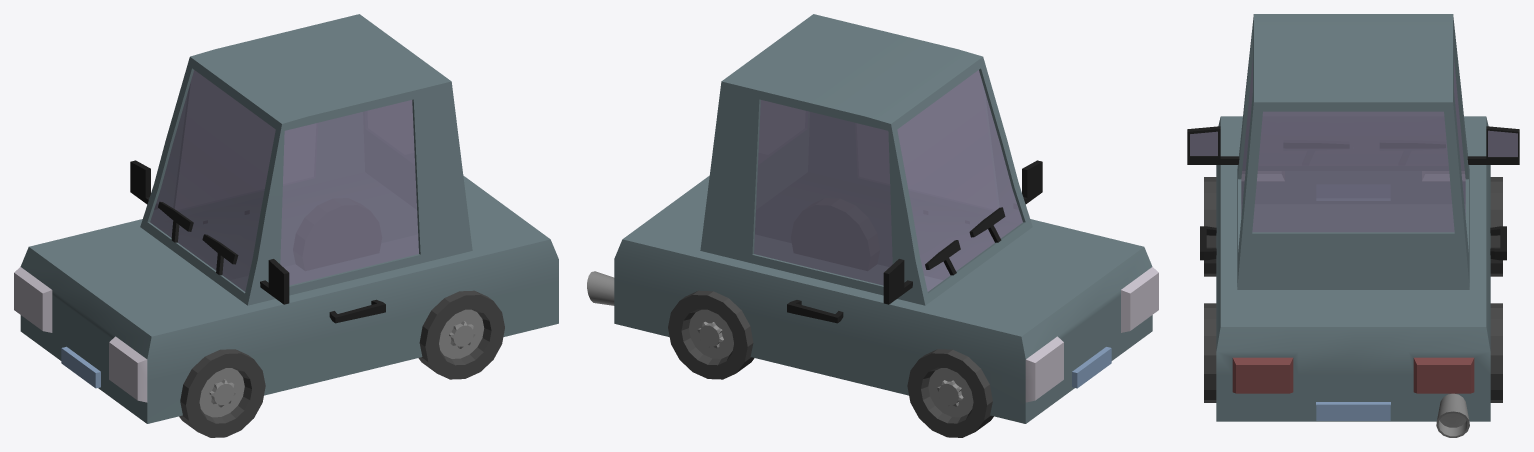
Rendered from Car2.fbx.
The picture shows the model from 3 angles, left to right: view 1: azimuth 30°, elevation 25°; view 2: azimuth 150°, elevation 25°; view 3: azimuth 270°, elevation 25°; orthographic projection. The views are drawn at different scales.
Parts seen in each view (by area): view 1: Auto, Llanta1, Llanta2, Llanta3; view 2: Auto, Llanta4, Llanta3, Llanta2; view 3: Auto, Llanta2, Llanta3, Llanta1, Llanta4.
Part boxes in pixels (bbox=[...]): Auto: bbox=[14, 14, 558, 423]; Llanta1: bbox=[179, 349, 265, 437]; Llanta2: bbox=[418, 290, 504, 379]; Llanta3: bbox=[293, 198, 381, 270]; Auto: bbox=[587, 14, 1158, 423]; Llanta4: bbox=[907, 349, 993, 437]; Llanta3: bbox=[668, 290, 754, 379]; Llanta2: bbox=[791, 198, 879, 270]; Auto: bbox=[1187, 14, 1519, 437]; Llanta2: bbox=[1204, 303, 1216, 402]; Llanta3: bbox=[1490, 303, 1502, 402]; Llanta1: bbox=[1204, 177, 1216, 276]; Llanta4: bbox=[1490, 177, 1502, 276].
Bounding box in the file's own units: 172 × 99.27 × 99.27.
